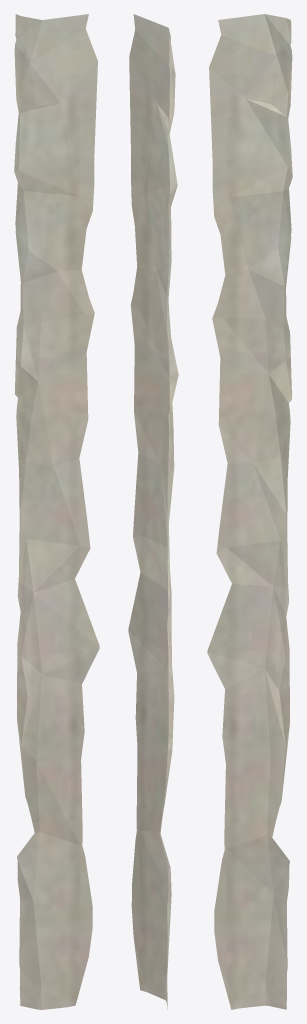
File: Tile_+001_+005_L21_0003020.glb
3 views of the same model, side by side, from view 1: azimuth 90°, elevation 25°; view 2: azimuth 210°, elevation 25°; view 3: azimuth 270°, elevation 25° (orthographic). The views are drawn at different scales.
Visible parts, largest first — view 1: rtc; view 2: rtc; view 3: rtc.
Boxes of the visible parts, bbox=[...] form: rtc: bbox=[14, 14, 99, 1009]; rtc: bbox=[128, 14, 178, 1009]; rtc: bbox=[207, 14, 292, 1009].
Bounding box in the file's own units: 0.1977 × 14.05 × 1.1.
Materials: 1 (1 with a texture image).
